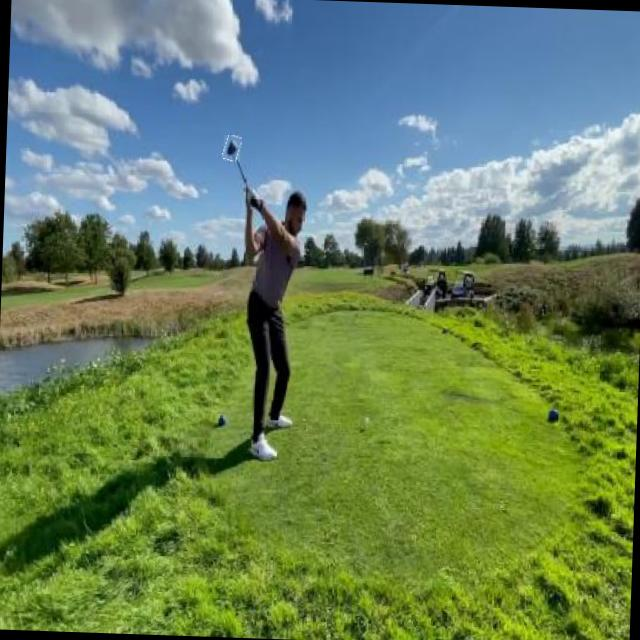club head: (222, 135, 240, 161)
